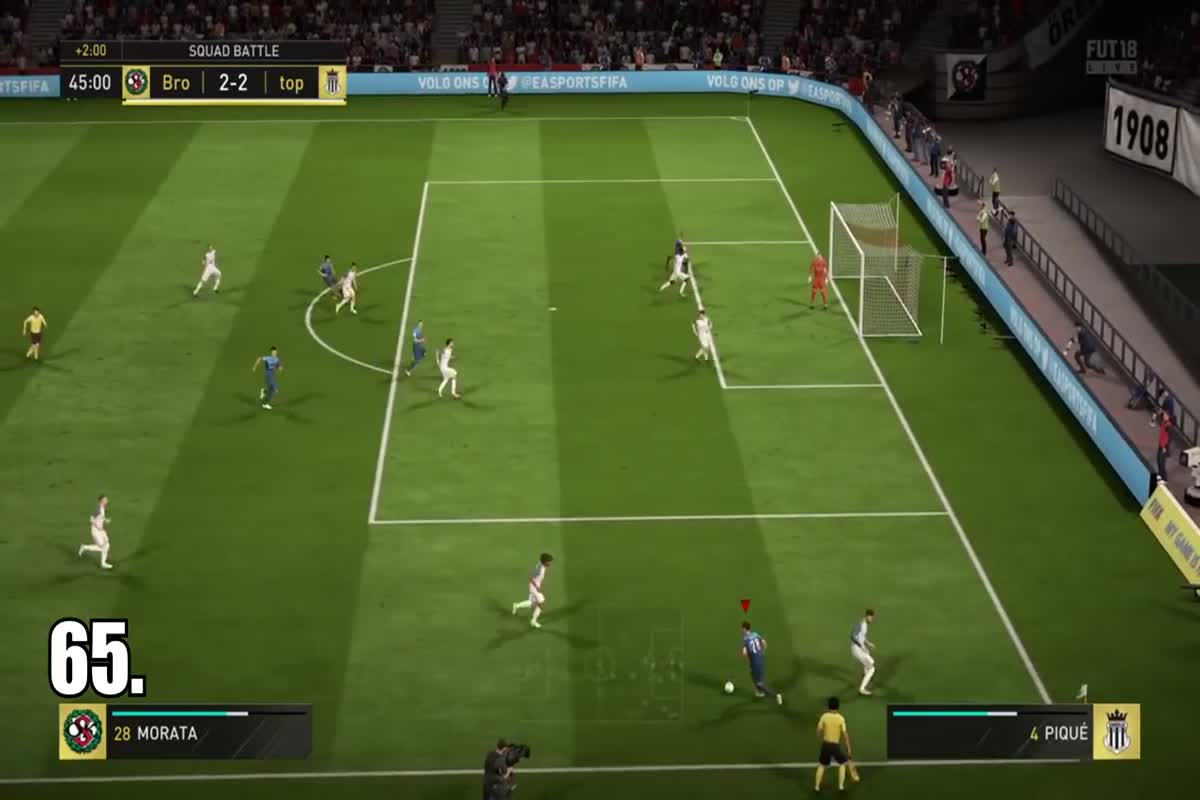ball: (714, 668, 742, 699)
